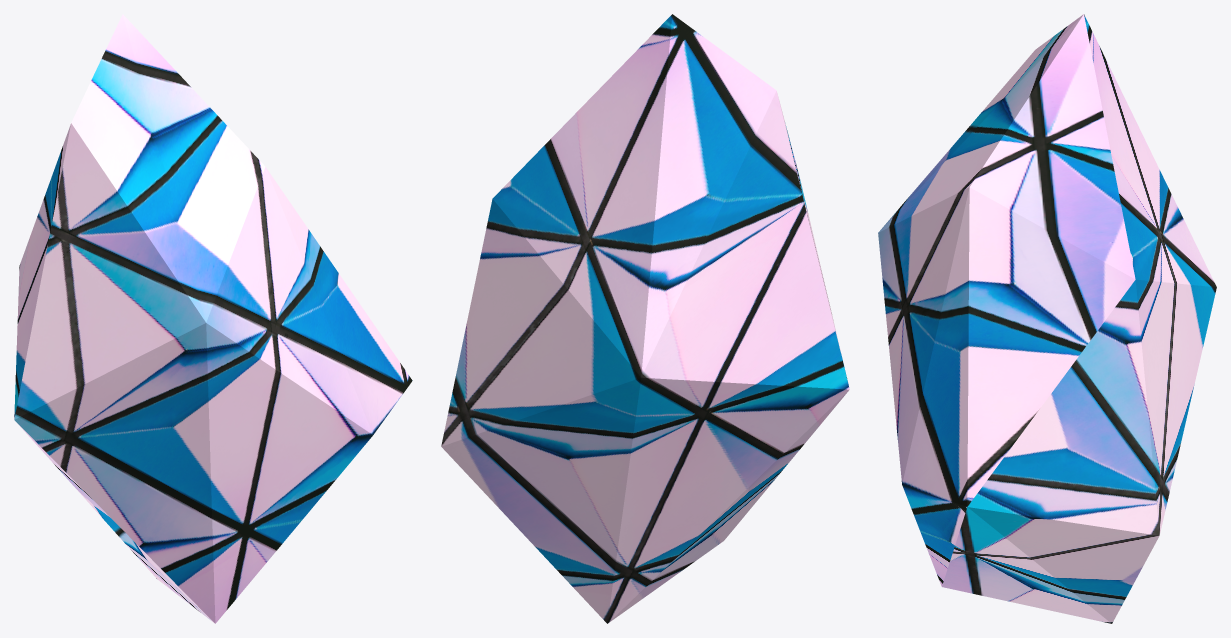
The model's file is crystal-2.gltf.
3 views of the same model, side by side, from view 1: azimuth 30°, elevation 25°; view 2: azimuth 150°, elevation 25°; view 3: azimuth 270°, elevation 25° (orthographic). The views are drawn at different scales.
Parts seen in each view (by area): view 1: Crystal; view 2: Crystal; view 3: Crystal.
Boxes of the visible parts, x1,y1,x2,y2 form: Crystal: [14, 14, 412, 623]; Crystal: [441, 14, 849, 623]; Crystal: [878, 14, 1216, 623].
Bounding box in the file's own units: 0.1001 × 0.1514 × 0.0793.
1 material, 1 textured.
